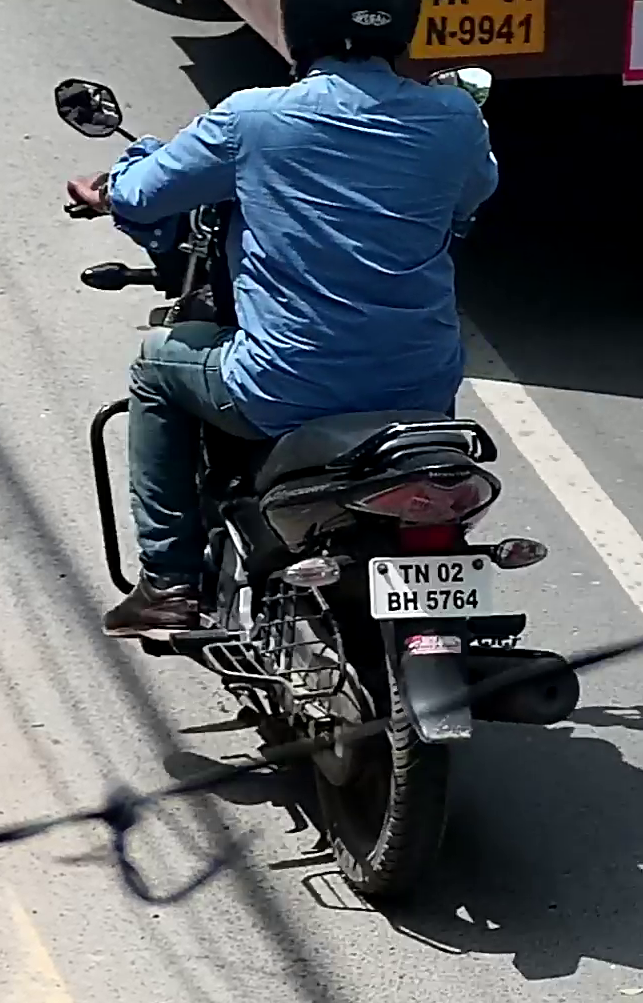0: (437, 563, 450, 583)
2: (450, 562, 464, 583)
4: (465, 587, 479, 609)
5: (426, 590, 438, 610)
6: (452, 588, 465, 610)
7: (439, 589, 452, 610)
B: (386, 591, 402, 612)
H: (402, 590, 418, 612)
N: (415, 563, 430, 584)
P16: (367, 554, 497, 622)
T: (398, 564, 414, 584)
